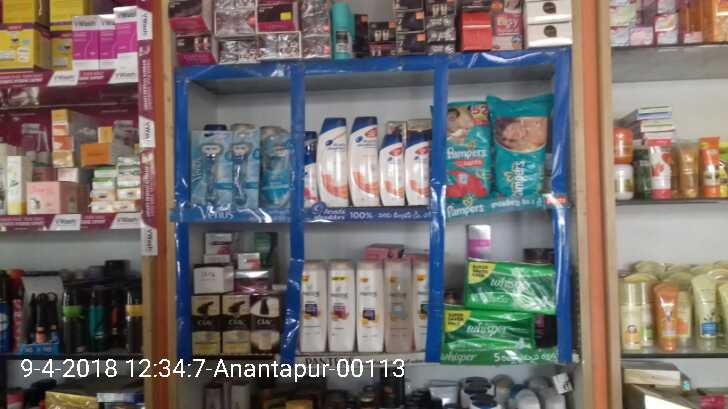venus: (192, 129, 231, 207), (231, 129, 261, 206), (261, 134, 292, 206)
